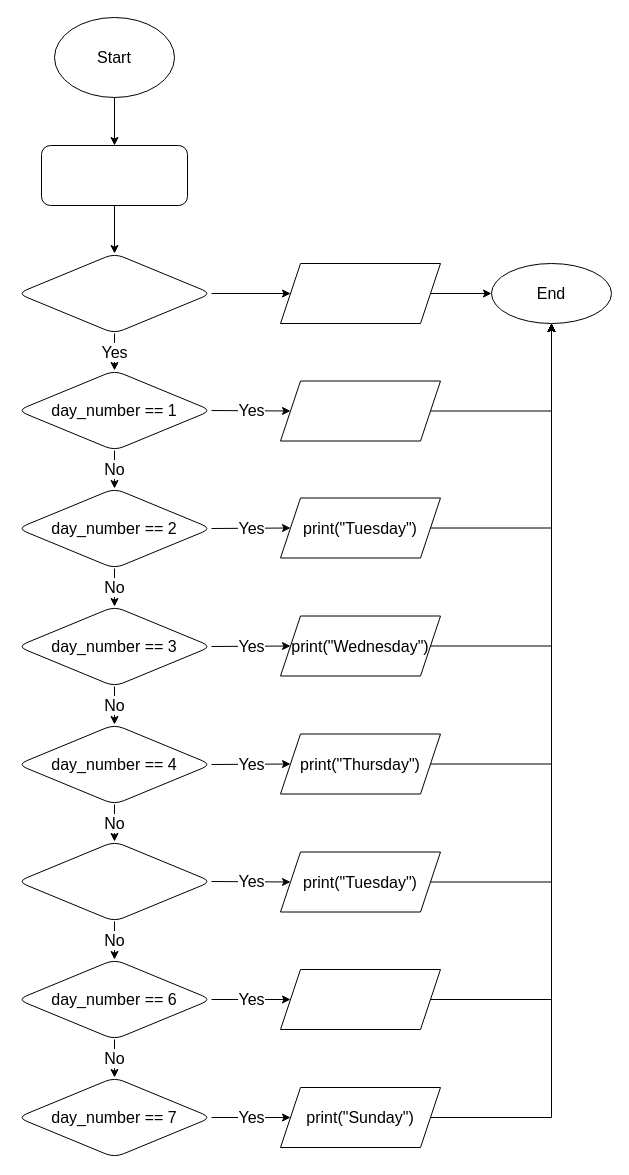
Some shapes in this 629 by 1175 pixel diagram are drawn without their labels. The shapes that lost their labels are listed below. From the top down, each one's centre as x and y in pixels, then its label:
point 114,175: day_number = 5
point 114,293: 1<=day_number<=7
point 360,293: print("Error")
point 360,410: print("Monday")
point 114,881: day_number == 5
point 360,999: print("Saturday")
